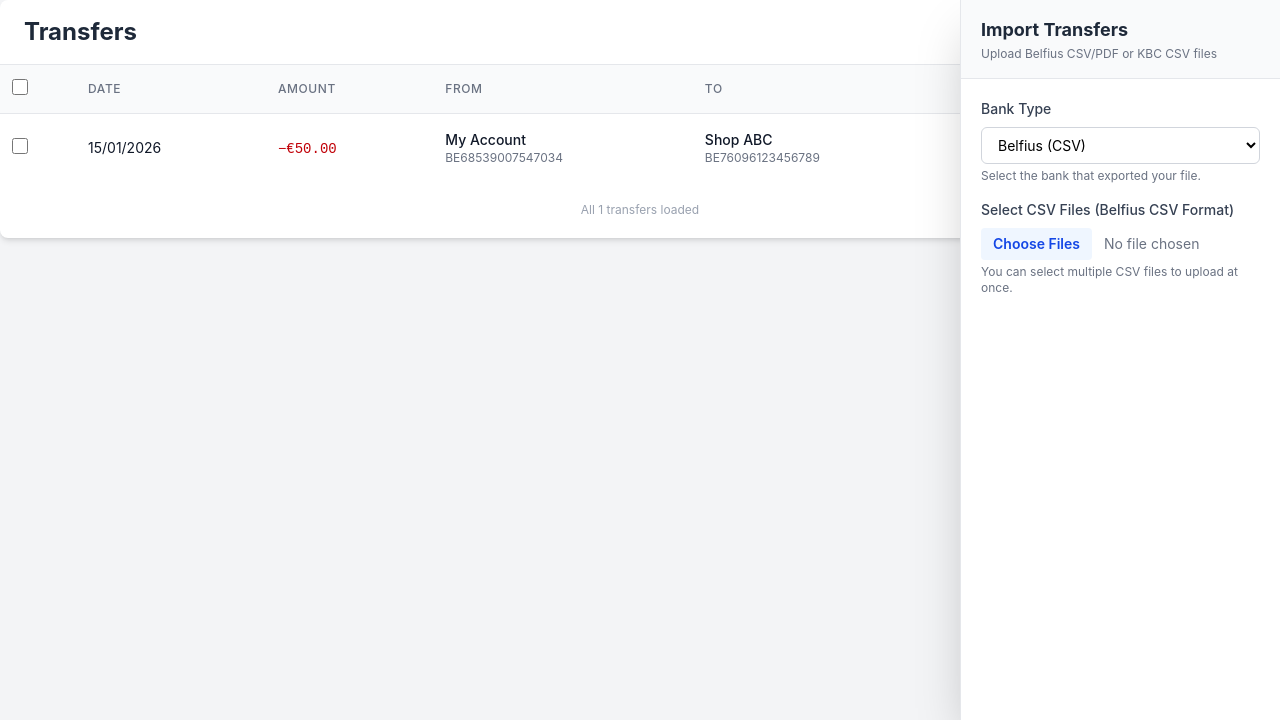
Test case: TransferList – refund linking UI (T015) › shows Link Refunds button in action panel when exactly 1 transfer is selected
Expected: the text "Salary" is shown, [936,114,1129,182]
# Select the single transfer
Click the checkbox named "Select transfer t-1": (20, 146) [12,138,28,154]
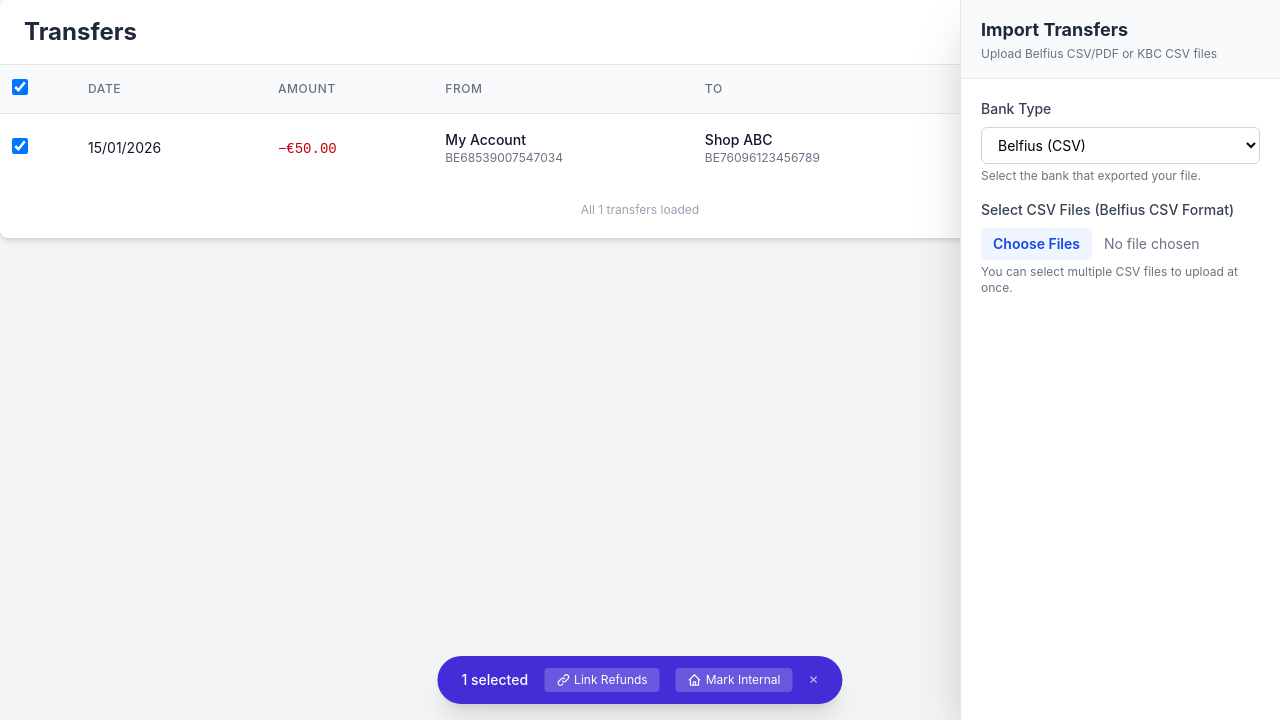
Result: the button with aria-label "Link refund transfers" is shown at [544,668,660,692]
